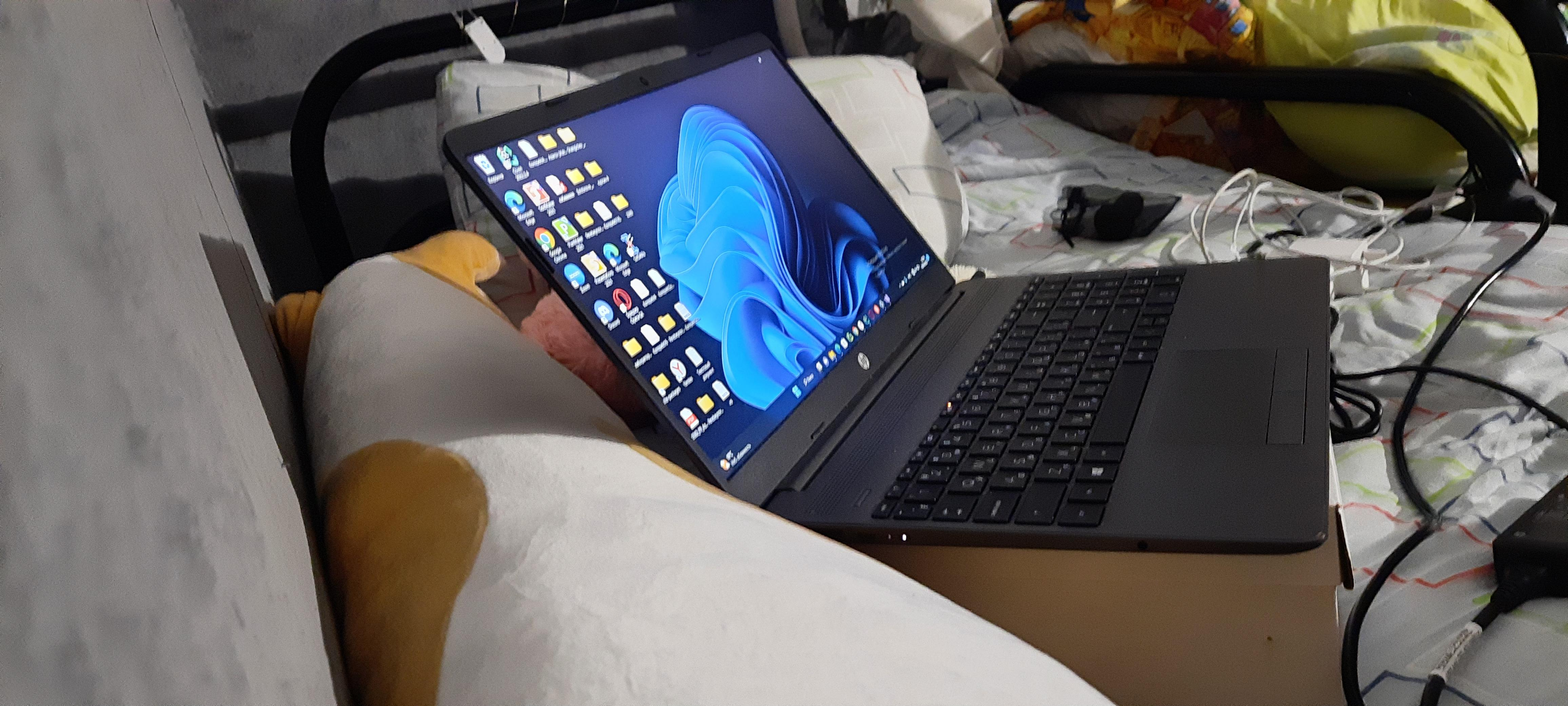monitor: (437, 27, 963, 545)
